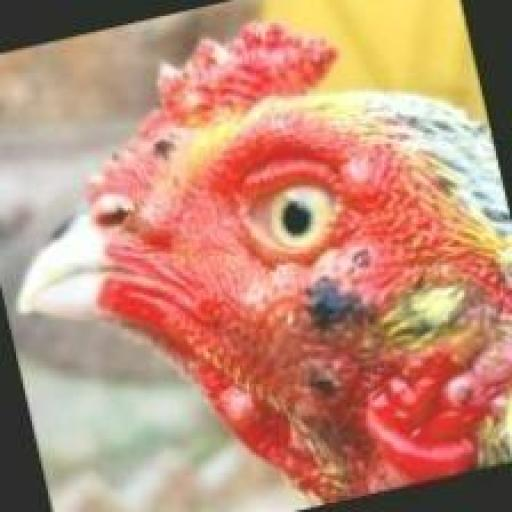disease: (247, 241, 500, 494), (159, 33, 346, 105)
